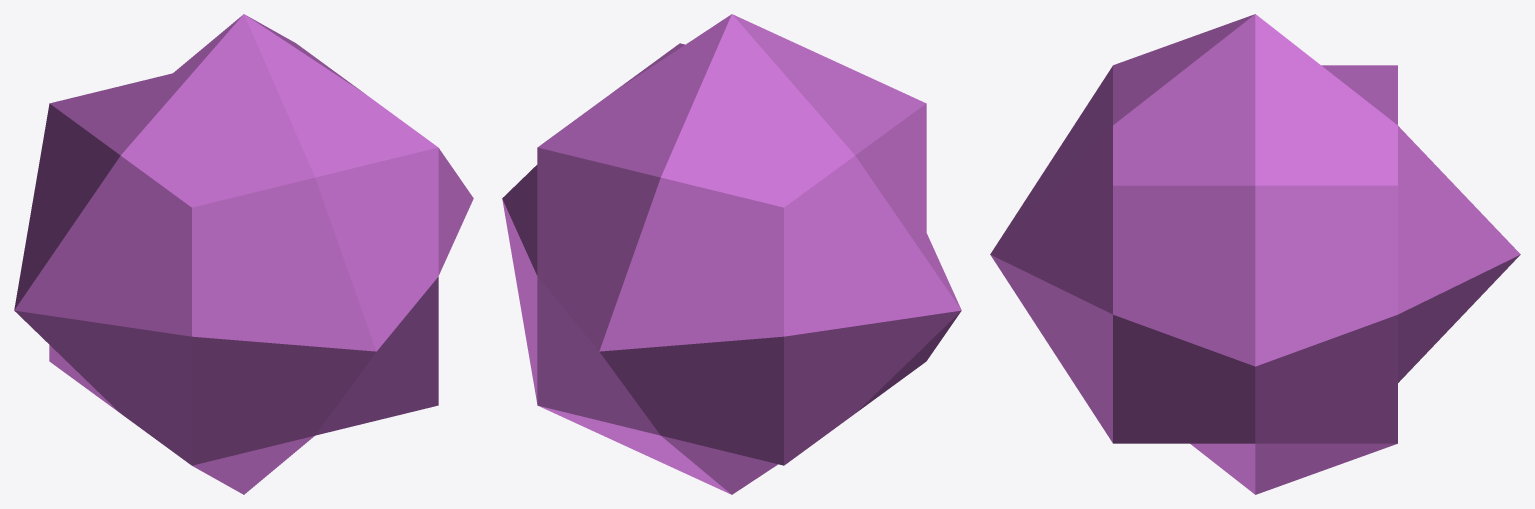
Rendered from enemy.fbx.
3 views of the same model, side by side, from view 1: azimuth 30°, elevation 25°; view 2: azimuth 150°, elevation 25°; view 3: azimuth 270°, elevation 25° (orthographic).
Visible parts, largest first — view 1: Cube; view 2: Cube; view 3: Cube.
Boxes of the visible parts, box(x1,y1,x2,y2) form: Cube: box(14, 14, 473, 494); Cube: box(502, 14, 961, 494); Cube: box(990, 14, 1520, 494).
Size of the model in its own units: 373 by 373 by 373.
